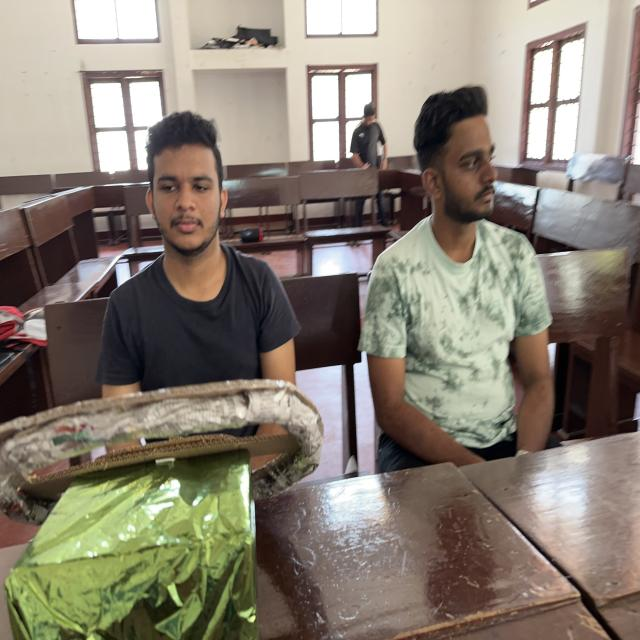Helmet: (100, 254, 305, 516), (363, 231, 560, 493)
